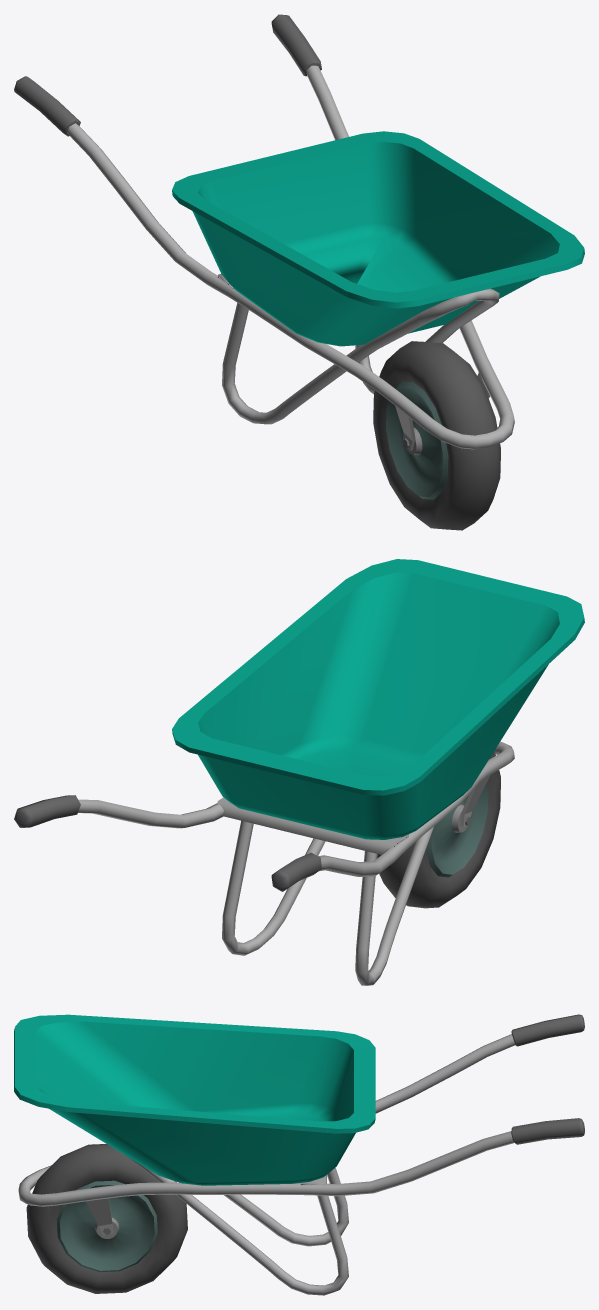
File: WheelbarrowG.gltf
3 views of the same model, one above another, from view 1: azimuth 30°, elevation 25°; view 2: azimuth 150°, elevation 25°; view 3: azimuth 270°, elevation 25° (orthographic). The views are drawn at different scales.
Visible parts, largest first — view 1: body, wheel_0, wheel_1; view 2: body, wheel_0; view 3: body, wheel_0, wheel_2.
Part boxes in pixels (x1,y1,x2,y2): body: (14, 14, 584, 496); wheel_0: (373, 341, 500, 530); wheel_1: (395, 381, 448, 499); body: (14, 559, 584, 985); wheel_0: (377, 751, 500, 908); body: (14, 1014, 584, 1295); wheel_0: (26, 1144, 187, 1293); wheel_2: (57, 1180, 157, 1272).
Bounding box in the file's own units: 0.8801 × 0.8601 × 1.89.
1 material, 1 textured.
